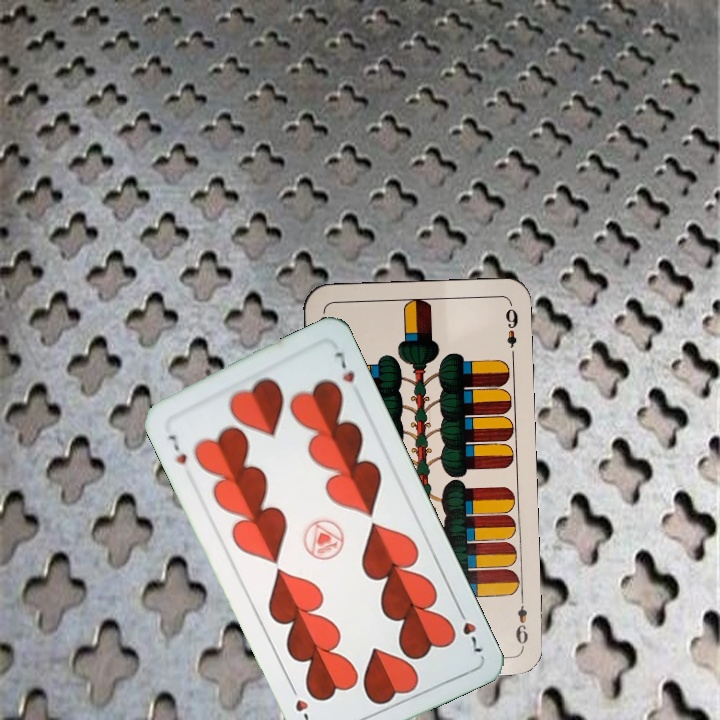E9: (512, 592, 531, 651)
H7: (453, 602, 488, 658), (164, 431, 190, 467)
